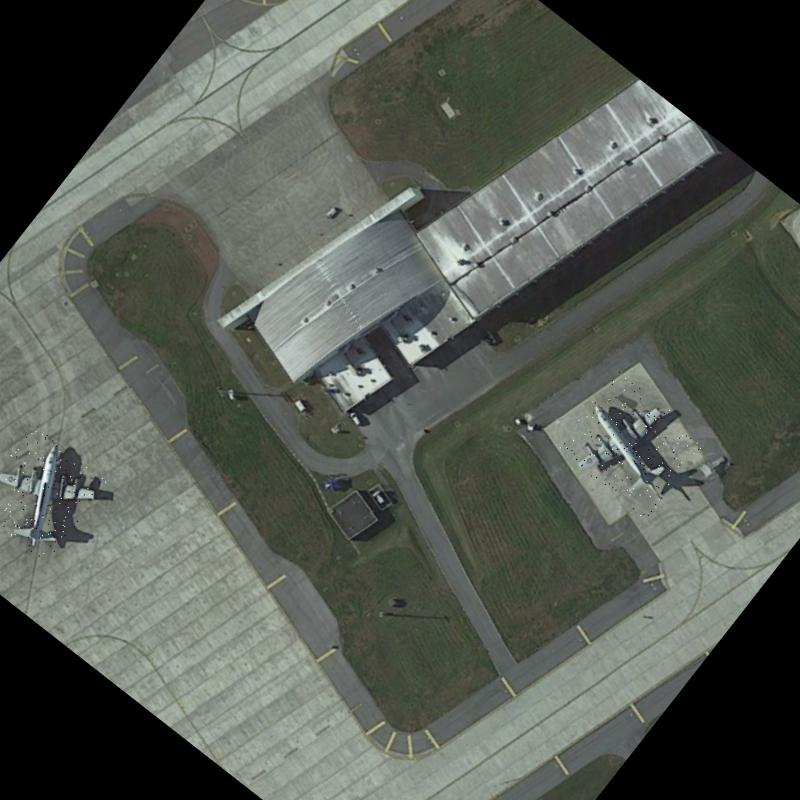A9: (553, 369, 708, 522), (0, 423, 109, 563)
